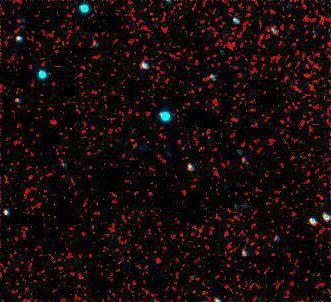star: (151, 244, 181, 274)
